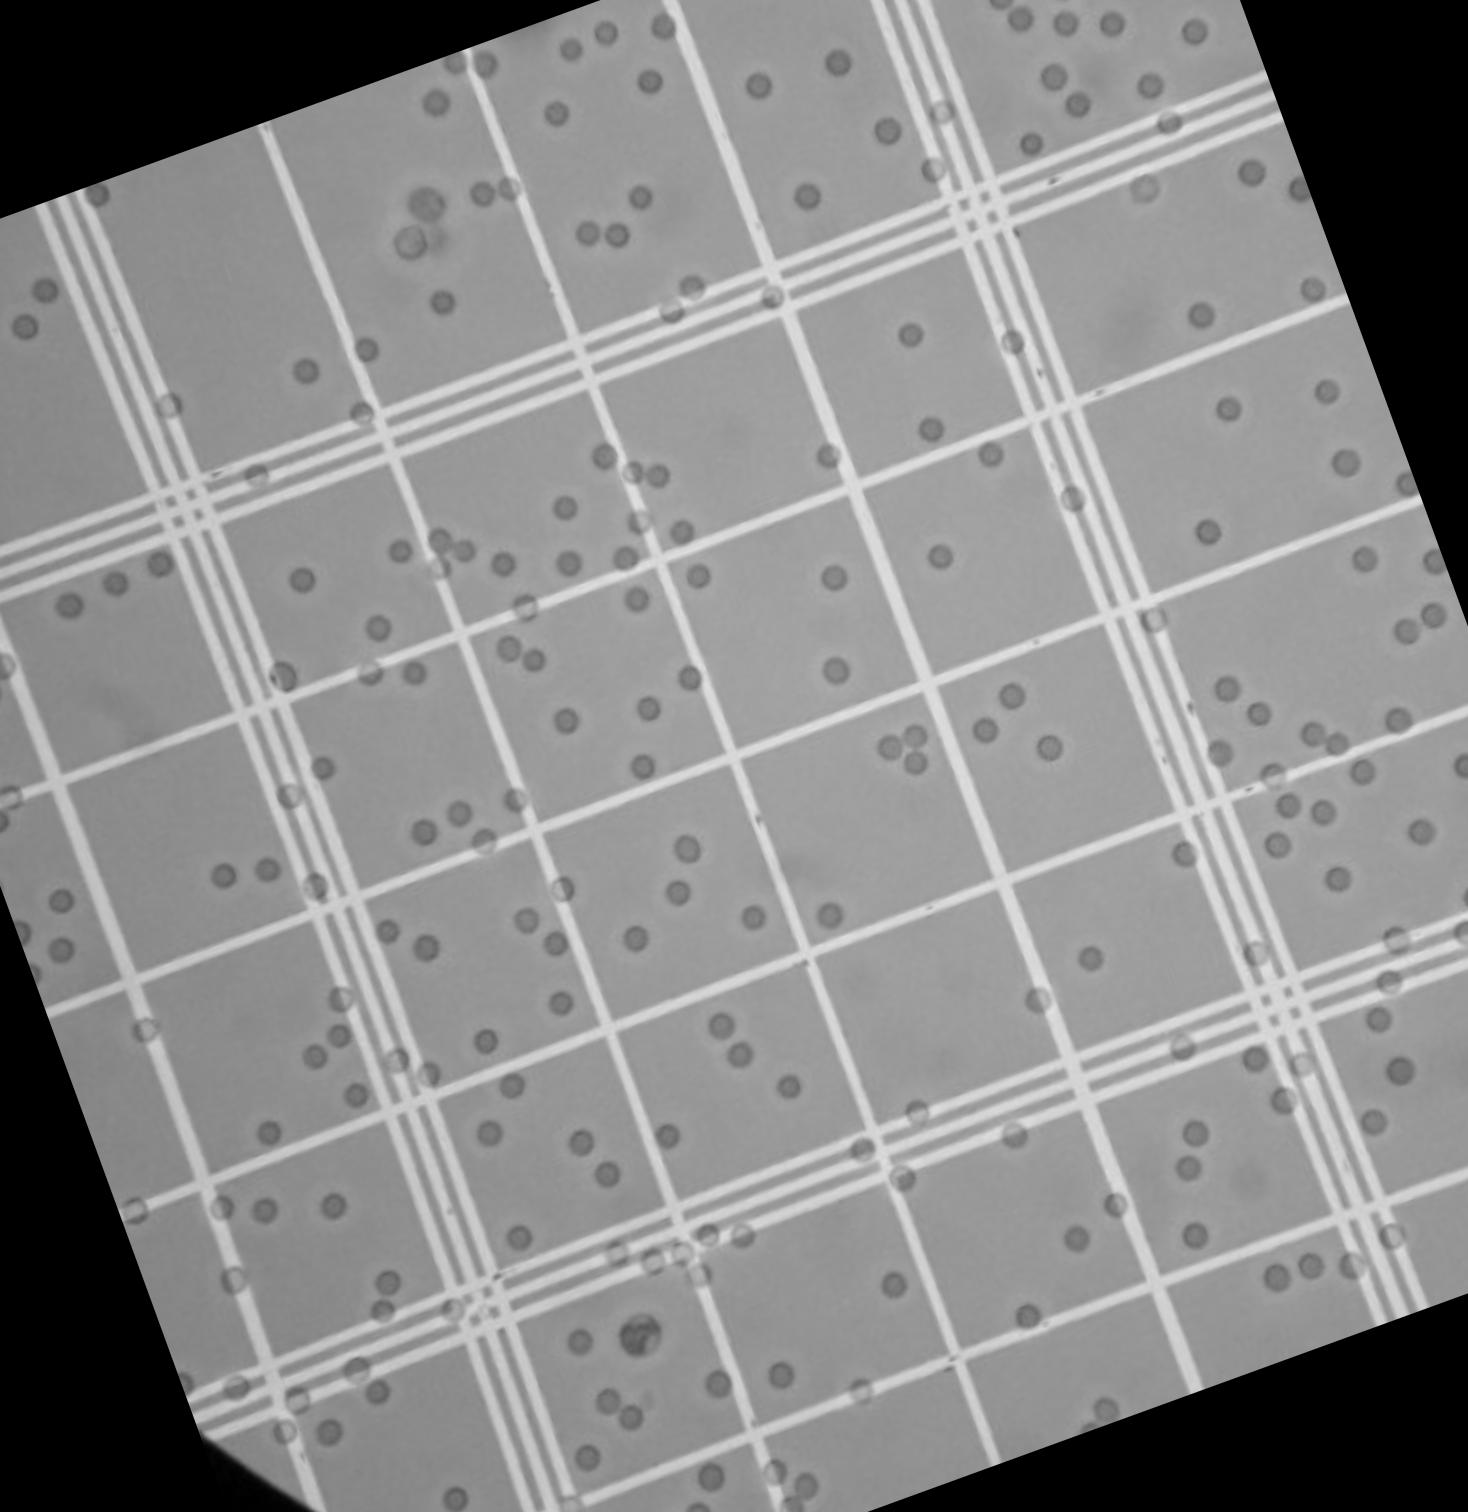cell: (619, 1314, 662, 1357), (408, 186, 446, 221), (393, 225, 427, 261), (267, 660, 298, 691), (1386, 1056, 1415, 1085), (696, 1463, 727, 1492), (1337, 1250, 1368, 1278), (791, 1471, 820, 1501), (1130, 175, 1160, 204), (363, 614, 392, 643), (301, 872, 330, 900), (284, 1386, 312, 1415), (704, 1369, 732, 1397), (1382, 926, 1410, 954), (122, 1196, 149, 1226), (1180, 16, 1207, 46), (1359, 1108, 1388, 1135), (220, 1268, 248, 1295), (412, 934, 439, 963), (673, 834, 701, 861), (881, 1270, 908, 1299), (903, 1100, 930, 1129), (1263, 1264, 1291, 1291), (1170, 1031, 1197, 1060), (1242, 940, 1271, 967), (1206, 738, 1234, 765), (1378, 1223, 1406, 1250), (131, 1017, 161, 1042), (276, 782, 305, 807), (1063, 1226, 1093, 1251), (1182, 1220, 1207, 1250), (1263, 832, 1292, 857), (1332, 450, 1361, 475), (155, 391, 182, 418), (55, 591, 82, 618), (425, 526, 452, 553), (257, 859, 284, 886), (574, 1444, 601, 1471), (670, 518, 697, 545), (421, 89, 448, 116), (1269, 1085, 1296, 1112), (998, 683, 1025, 710), (972, 715, 999, 742), (1188, 301, 1215, 328), (1215, 396, 1242, 423), (1419, 602, 1446, 629), (289, 566, 315, 594), (320, 1192, 346, 1220), (221, 1374, 250, 1400), (727, 1222, 755, 1247), (794, 182, 820, 211), (1182, 1120, 1210, 1146), (1024, 987, 1052, 1013), (1260, 763, 1286, 791), (926, 543, 955, 568), (1039, 63, 1067, 89), (1409, 819, 1437, 845), (1365, 1004, 1391, 1033), (431, 290, 456, 317), (145, 552, 172, 578), (357, 660, 384, 686), (211, 863, 236, 890), (567, 1328, 593, 1355), (506, 1224, 532, 1251), (709, 1013, 735, 1039), (411, 819, 438, 845), (592, 443, 619, 468), (658, 296, 683, 323), (745, 73, 772, 99), (816, 441, 841, 468), (822, 657, 848, 684), (1093, 1396, 1120, 1422), (889, 1165, 916, 1191), (849, 1135, 876, 1161), (1061, 486, 1089, 512), (874, 117, 901, 143), (920, 157, 947, 182), (1007, 7, 1034, 32), (1392, 620, 1419, 645), (763, 1458, 787, 1486), (1171, 841, 1199, 865), (1237, 161, 1265, 185), (443, 1486, 469, 1512), (382, 1048, 408, 1073), (416, 1060, 442, 1085), (640, 1249, 666, 1274), (569, 1130, 594, 1156), (513, 906, 539, 932), (623, 925, 648, 950), (552, 707, 578, 733), (654, 13, 679, 39), (821, 564, 847, 590), (848, 1378, 874, 1404), (1276, 794, 1302, 819), (1310, 801, 1336, 826), (1301, 275, 1326, 301), (1387, 707, 1413, 733), (355, 336, 379, 363), (253, 1197, 277, 1224), (593, 1162, 620, 1187), (654, 1123, 681, 1147), (496, 636, 520, 663), (471, 51, 498, 76), (637, 67, 662, 94), (817, 902, 841, 929), (1016, 1304, 1043, 1328), (1037, 734, 1064, 759), (1066, 90, 1090, 117), (1099, 12, 1126, 36), (1353, 545, 1378, 572), (424, 556, 452, 579), (315, 1422, 343, 1444), (1288, 1052, 1317, 1075), (31, 278, 57, 302), (348, 400, 374, 424), (103, 572, 128, 597), (402, 661, 427, 687), (49, 890, 74, 914), (209, 1195, 234, 1220), (375, 1270, 401, 1295), (344, 1358, 370, 1382), (303, 1044, 327, 1069), (344, 1084, 370, 1108), (474, 1027, 498, 1053), (594, 1388, 619, 1413), (498, 1073, 524, 1098), (471, 829, 496, 855), (629, 753, 654, 779), (678, 666, 702, 691), (646, 463, 671, 487), (679, 274, 704, 300), (593, 20, 619, 45), (1001, 1123, 1026, 1147), (1298, 1254, 1323, 1278), (1176, 1156, 1202, 1180), (1078, 946, 1102, 972), (876, 734, 901, 760), (1214, 675, 1238, 701), (1195, 518, 1220, 544), (1137, 74, 1163, 99), (1314, 378, 1338, 404), (1299, 721, 1325, 745), (976, 441, 1003, 464), (928, 99, 955, 122), (257, 1120, 281, 1145), (273, 1420, 297, 1444), (767, 1362, 791, 1386), (696, 1223, 720, 1247), (479, 1120, 504, 1145), (636, 695, 660, 720), (513, 595, 538, 620), (556, 552, 581, 576), (628, 509, 652, 533), (544, 100, 569, 124), (1103, 1192, 1128, 1216), (1242, 1046, 1267, 1071), (903, 724, 928, 748), (1053, 11, 1078, 35), (1326, 868, 1351, 892), (14, 315, 39, 337), (470, 181, 493, 207), (388, 540, 413, 563), (311, 757, 336, 780), (49, 940, 74, 963), (685, 1264, 710, 1287), (727, 1044, 752, 1066), (448, 801, 471, 826), (605, 223, 628, 248), (629, 185, 652, 211), (827, 50, 849, 76), (296, 356, 317, 383), (443, 1297, 466, 1322), (330, 988, 354, 1011), (375, 919, 398, 944), (619, 1405, 641, 1430), (604, 1241, 627, 1265), (544, 932, 569, 954), (550, 878, 574, 900), (666, 882, 690, 905), (502, 787, 525, 811), (614, 545, 637, 570), (621, 460, 644, 485), (577, 220, 600, 244), (903, 752, 928, 775), (1143, 606, 1165, 630), (918, 418, 943, 441), (898, 323, 922, 346), (1157, 111, 1182, 134), (1351, 757, 1373, 782), (1376, 971, 1400, 994), (669, 1243, 694, 1265), (1423, 548, 1442, 576), (371, 1300, 394, 1323), (367, 1380, 390, 1403), (550, 992, 573, 1015), (741, 905, 764, 927), (627, 587, 650, 610), (687, 564, 710, 587), (554, 495, 577, 518), (1247, 702, 1269, 725), (244, 466, 269, 487), (760, 285, 785, 306), (443, 54, 467, 76), (85, 185, 108, 207), (779, 1075, 801, 1098), (492, 553, 515, 575), (560, 38, 582, 61), (1002, 331, 1025, 352), (451, 541, 475, 562), (1018, 134, 1043, 154), (1326, 730, 1346, 755), (1288, 177, 1306, 204), (328, 1026, 350, 1048), (523, 649, 546, 670), (1395, 471, 1413, 495), (1454, 749, 1468, 779)
